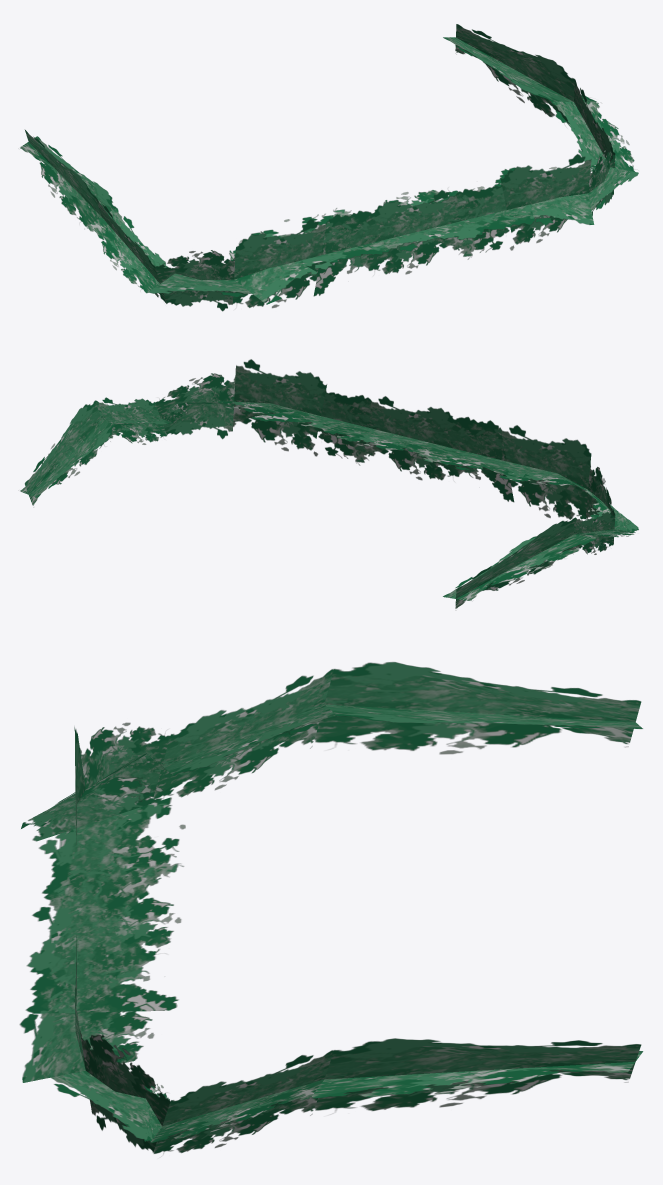
File: Wreath03.glb
3 views of the same model, one above another, from view 1: azimuth 30°, elevation 25°; view 2: azimuth 150°, elevation 25°; view 3: azimuth 270°, elevation 25° (orthographic). The views are drawn at different scales.
Visible parts, largest first — view 1: Wreath03; view 2: Wreath03; view 3: Wreath03.
Part boxes in pixels (x1,y1,x2,y2): Wreath03: [20, 24, 638, 311]; Wreath03: [20, 359, 638, 608]; Wreath03: [19, 662, 643, 1153].
Bounding box in the file's own units: 2.62 × 0.4899 × 1.65.
Materials: 1 (1 with a texture image).
